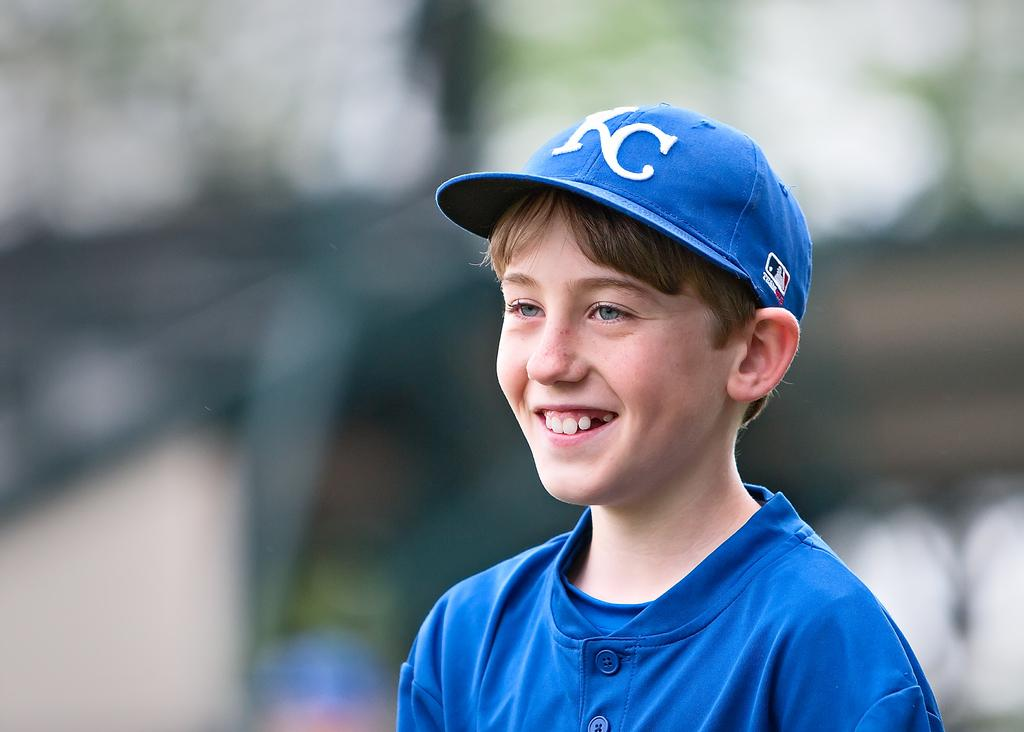Hat: (435, 102, 815, 322)
